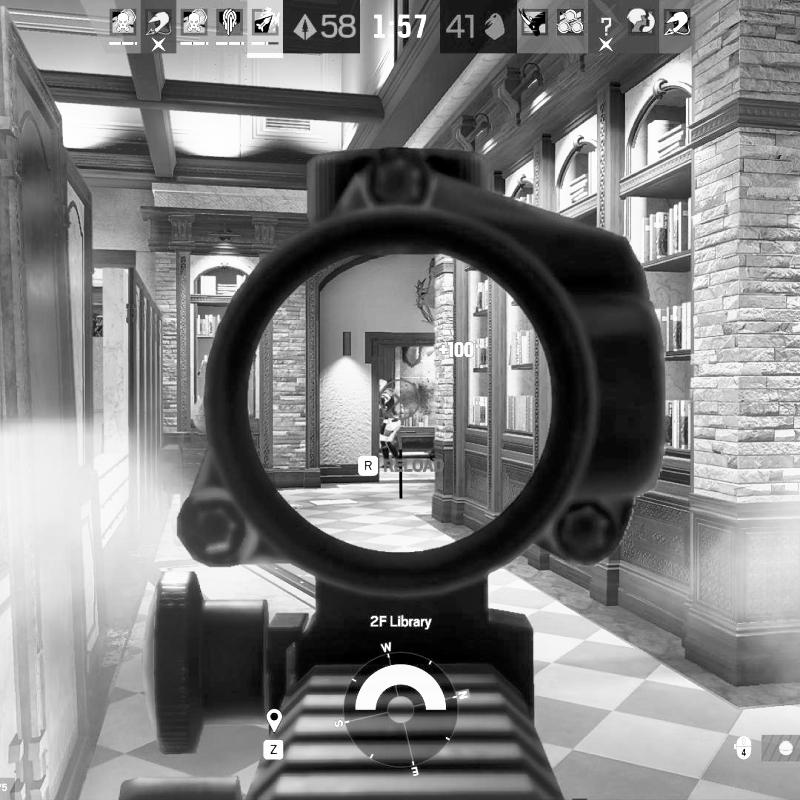Character: (377, 378, 405, 471)
Head: (378, 379, 388, 393)
